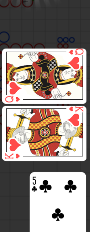4C: (30, 176, 38, 194)
9H: (3, 96, 21, 104)
